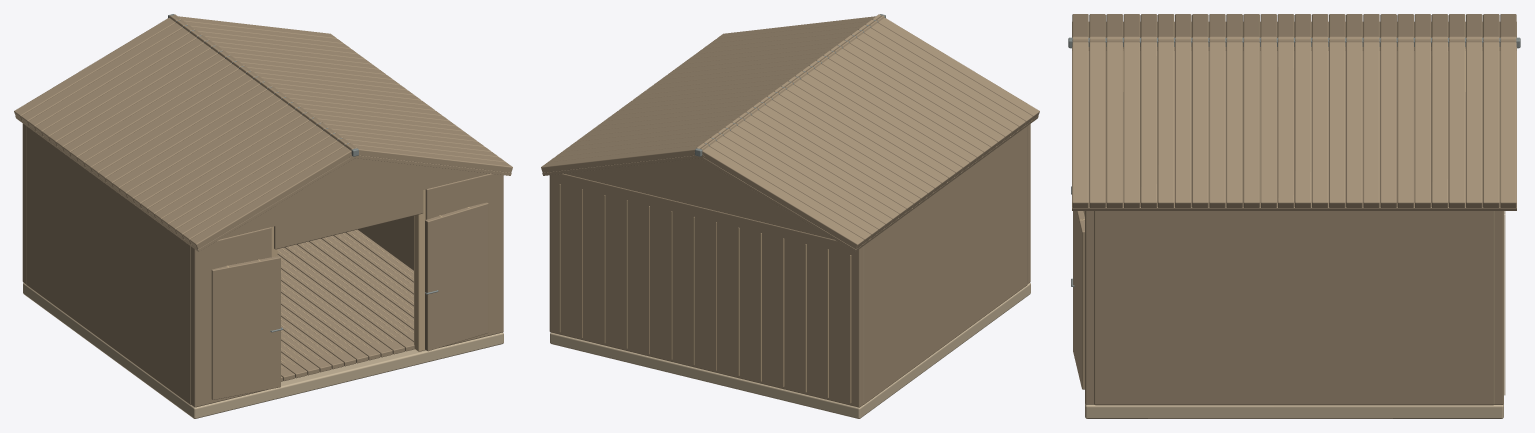
Rendered from coastal-saltworks-and-trade-port-coastal-saltworks-and-f959e029__31360.glb.
3 renders of one model, left to right at view 1: azimuth 30°, elevation 25°; view 2: azimuth 150°, elevation 25°; view 3: azimuth 270°, elevation 25°, orthographic. The views are drawn at different scales.
Visible parts, largest first — view 1: coastal-saltworks-and-trade-port-roofed-salt-warehouse; view 2: coastal-saltworks-and-trade-port-roofed-salt-warehouse; view 3: coastal-saltworks-and-trade-port-roofed-salt-warehouse.
Boxes of the visible parts, <box> form: coastal-saltworks-and-trade-port-roofed-salt-warehouse: <box>14,14,512,418</box>; coastal-saltworks-and-trade-port-roofed-salt-warehouse: <box>541,14,1039,418</box>; coastal-saltworks-and-trade-port-roofed-salt-warehouse: <box>1068,14,1520,418</box>.
Bounding box in the file's own units: 5.11 × 3.66 × 5.18.
